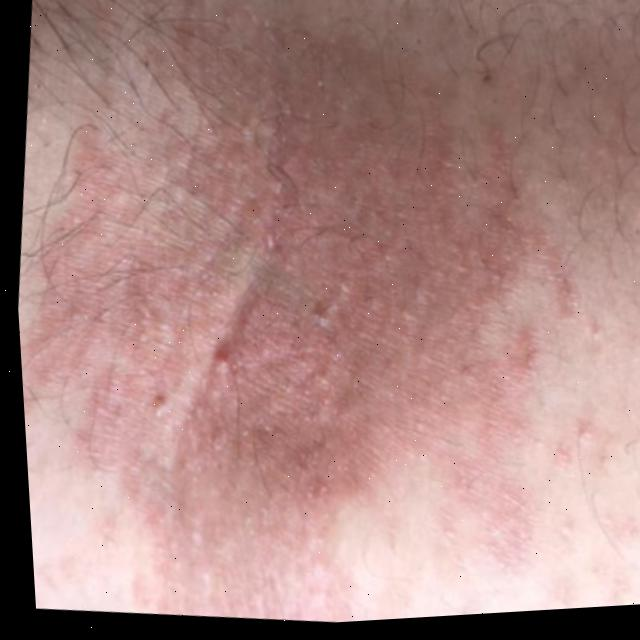Eczema: (47, 18, 495, 531)
